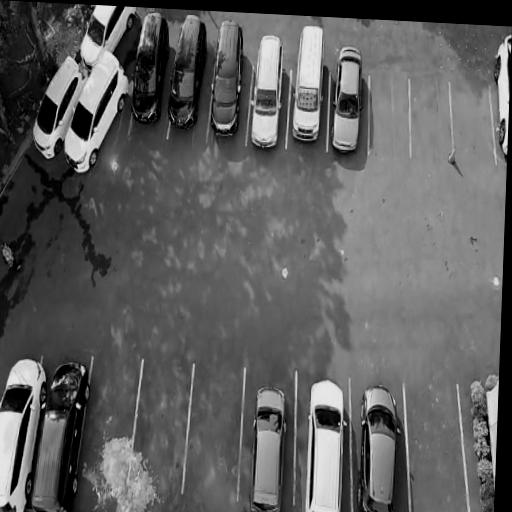Car: (54, 42, 133, 180), (31, 361, 95, 512), (0, 351, 50, 511), (296, 376, 352, 512), (24, 46, 89, 162), (351, 378, 405, 512), (243, 375, 295, 512), (164, 9, 212, 139), (288, 16, 332, 154), (247, 25, 290, 158), (206, 11, 247, 145), (128, 9, 170, 136), (329, 38, 369, 160), (74, 5, 141, 73), (488, 28, 512, 170)
Space Available: (406, 380, 471, 512), (128, 361, 193, 490), (184, 362, 245, 498), (76, 357, 141, 482), (409, 73, 455, 155), (449, 82, 494, 164), (369, 74, 411, 154)
